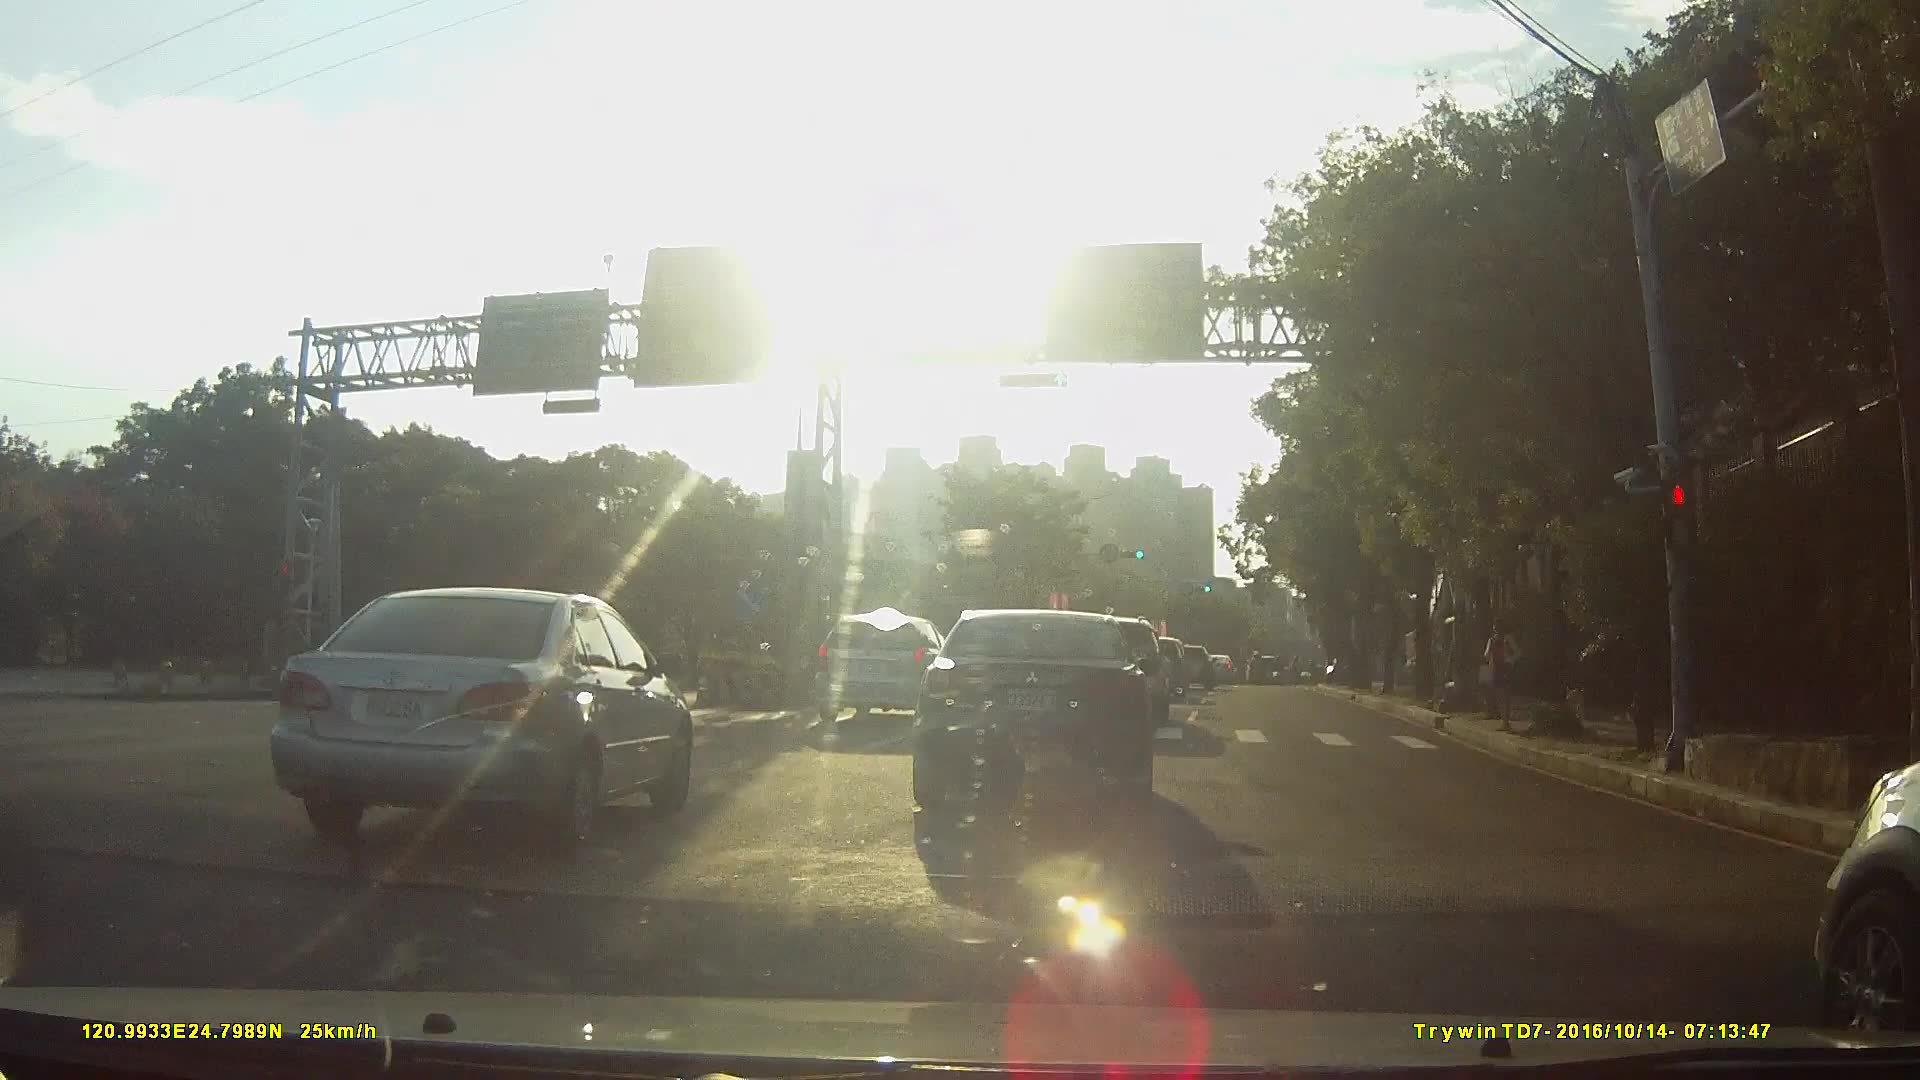pedestrian: (1476, 617, 1528, 730)
vehicle: (248, 579, 692, 851), (1748, 699, 1920, 1044), (896, 607, 1166, 817), (806, 608, 950, 721), (1162, 641, 1209, 687), (1197, 650, 1232, 678)
